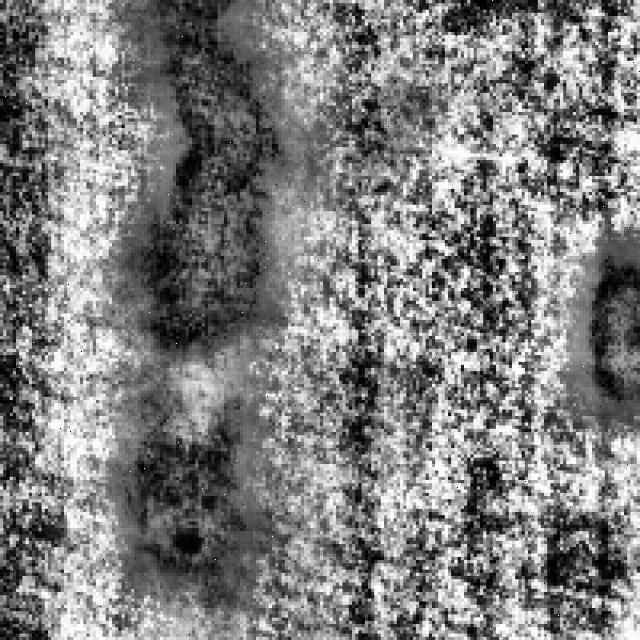Scratches: (132, 0, 294, 352), (122, 371, 260, 592), (576, 230, 640, 420)
